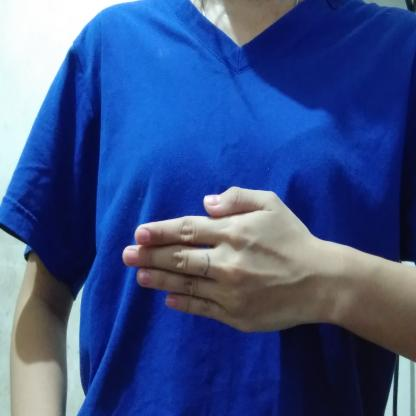ready: (119, 183, 356, 337)
